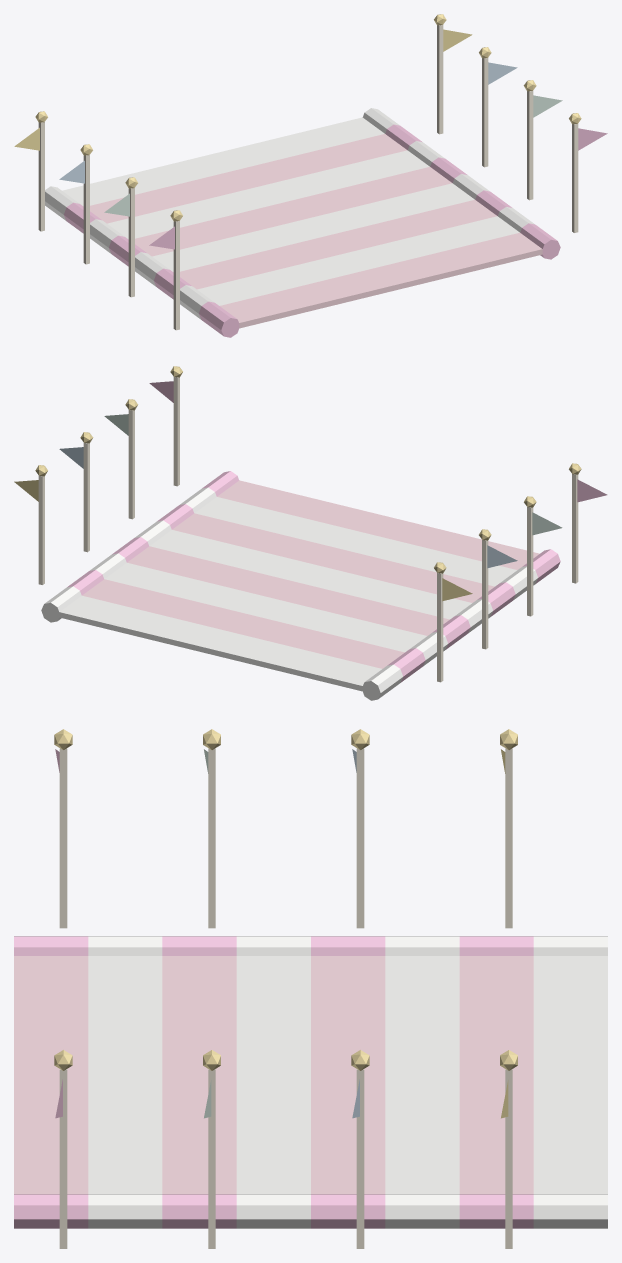
The model's file is draha_rovna_vlajky.glb.
The picture shows the model from 3 angles, top to bottom: view 1: azimuth 30°, elevation 25°; view 2: azimuth 150°, elevation 25°; view 3: azimuth 270°, elevation 25°; orthographic projection. The views are drawn at different scales.
Parts seen in each view (by area): view 1: DrahaRovnaVlajky_white, DrahaRovnaVlajky_pink, DrahaRovnaVlajky_cream, DrahaRovnaVlajky_lol, DrahaRovnaVlajky_gold, DrahaRovnaVlajky_mint, DrahaRovnaVlajky_blue, DrahaRovnaVlajky_yellow; view 2: DrahaRovnaVlajky_white, DrahaRovnaVlajky_pink, DrahaRovnaVlajky_cream, DrahaRovnaVlajky_lol, DrahaRovnaVlajky_gold, DrahaRovnaVlajky_mint, DrahaRovnaVlajky_blue, DrahaRovnaVlajky_yellow; view 3: DrahaRovnaVlajky_white, DrahaRovnaVlajky_pink, DrahaRovnaVlajky_lol, DrahaRovnaVlajky_cream, DrahaRovnaVlajky_gold.
Part boxes in pixels (x1,y1,x2,y2): DrahaRovnaVlajky_white: [45, 108, 534, 319]; DrahaRovnaVlajky_pink: [90, 134, 542, 328]; DrahaRovnaVlajky_cream: [38, 25, 578, 330]; DrahaRovnaVlajky_lol: [64, 124, 607, 337]; DrahaRovnaVlajky_gold: [35, 14, 581, 221]; DrahaRovnaVlajky_mint: [104, 95, 562, 216]; DrahaRovnaVlajky_blue: [59, 62, 517, 183]; DrahaRovnaVlajky_yellow: [14, 29, 472, 150]; DrahaRovnaVlajky_white: [41, 487, 537, 700]; DrahaRovnaVlajky_pink: [82, 480, 539, 668]; DrahaRovnaVlajky_cream: [38, 377, 578, 682]; DrahaRovnaVlajky_lol: [67, 381, 607, 682]; DrahaRovnaVlajky_gold: [35, 366, 581, 573]; DrahaRovnaVlajky_mint: [104, 414, 562, 535]; DrahaRovnaVlajky_blue: [59, 447, 517, 568]; DrahaRovnaVlajky_yellow: [14, 480, 472, 601]; DrahaRovnaVlajky_white: [88, 936, 607, 1228]; DrahaRovnaVlajky_pink: [14, 956, 533, 1194]; DrahaRovnaVlajky_lol: [14, 749, 533, 1228]; DrahaRovnaVlajky_cream: [59, 748, 512, 1248]; DrahaRovnaVlajky_gold: [54, 729, 517, 1070].
Size of the model in its own units: 10.6 by 2.77 by 7.2.
